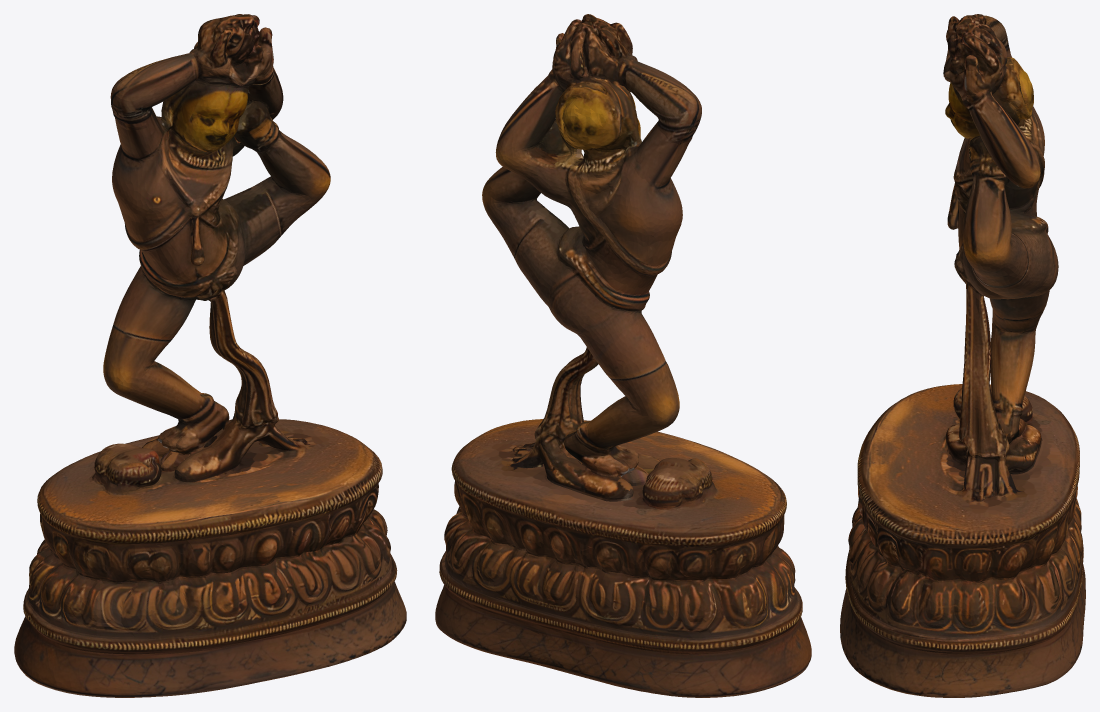
The picture shows the model from 3 angles, left to right: view 1: azimuth 30°, elevation 25°; view 2: azimuth 150°, elevation 25°; view 3: azimuth 270°, elevation 25°; orthographic projection.
Visible parts, largest first — view 1: textured_mesh; view 2: textured_mesh; view 3: textured_mesh.
Boxes of the visible parts, bbox=[...] form: textured_mesh: bbox=[14, 14, 406, 697]; textured_mesh: bbox=[435, 14, 811, 697]; textured_mesh: bbox=[840, 14, 1085, 697].
Size of the model in its own units: 1.21 by 1.99 by 0.7281.
1 material, 1 textured.
